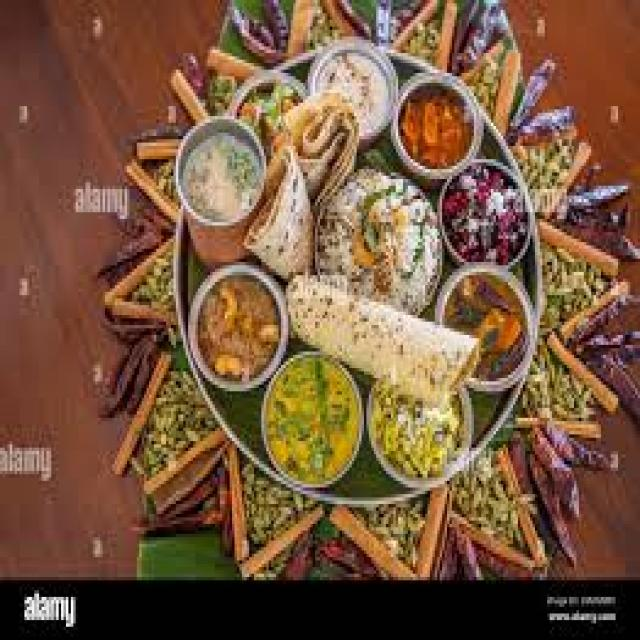DOSA: (286, 269, 474, 468)
SAMOSA: (244, 123, 313, 269)
